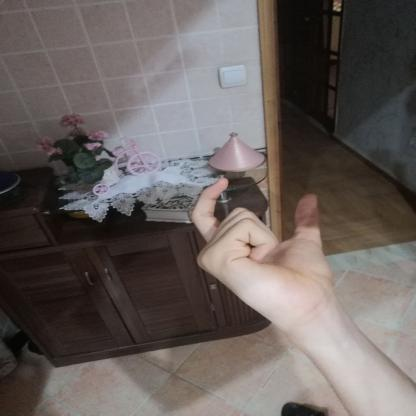NOON: (171, 169, 346, 336)
